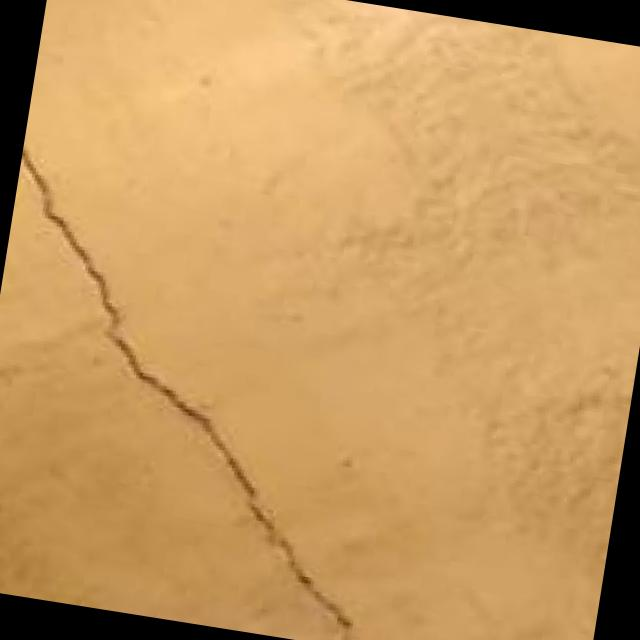crack: (0, 86, 472, 640)
